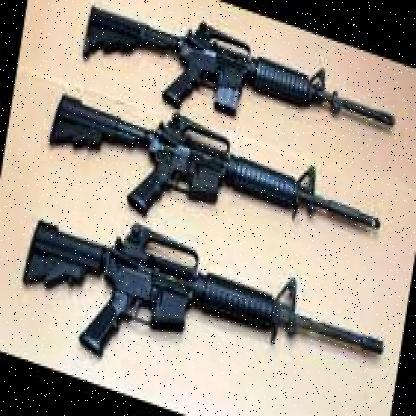rifle: (9, 193, 390, 416), (40, 77, 390, 291), (69, 0, 405, 186)
